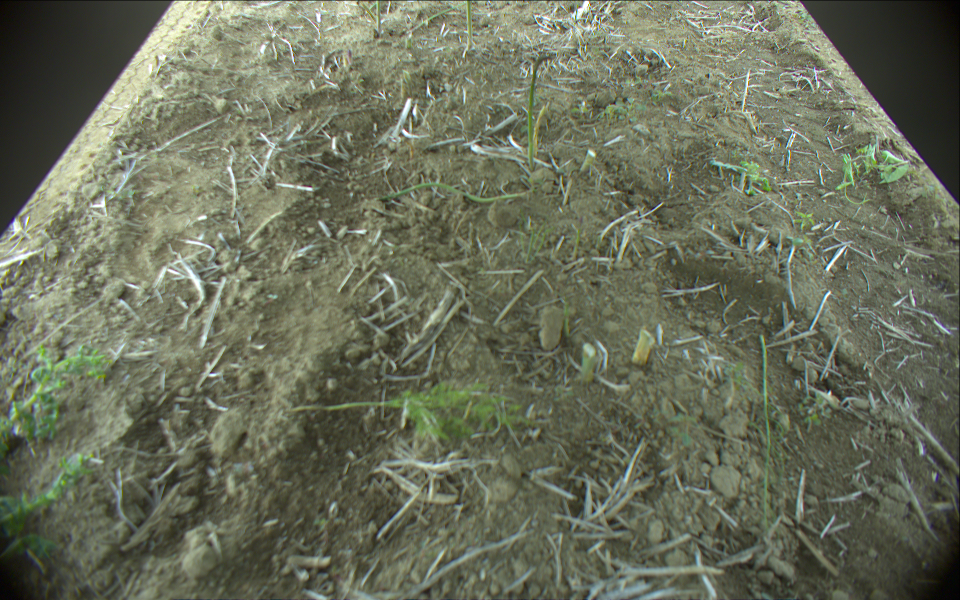aspa: (374, 180, 533, 206), (526, 51, 558, 165), (757, 333, 771, 530), (463, 1, 476, 52), (360, 2, 379, 24), (372, 1, 383, 35)
